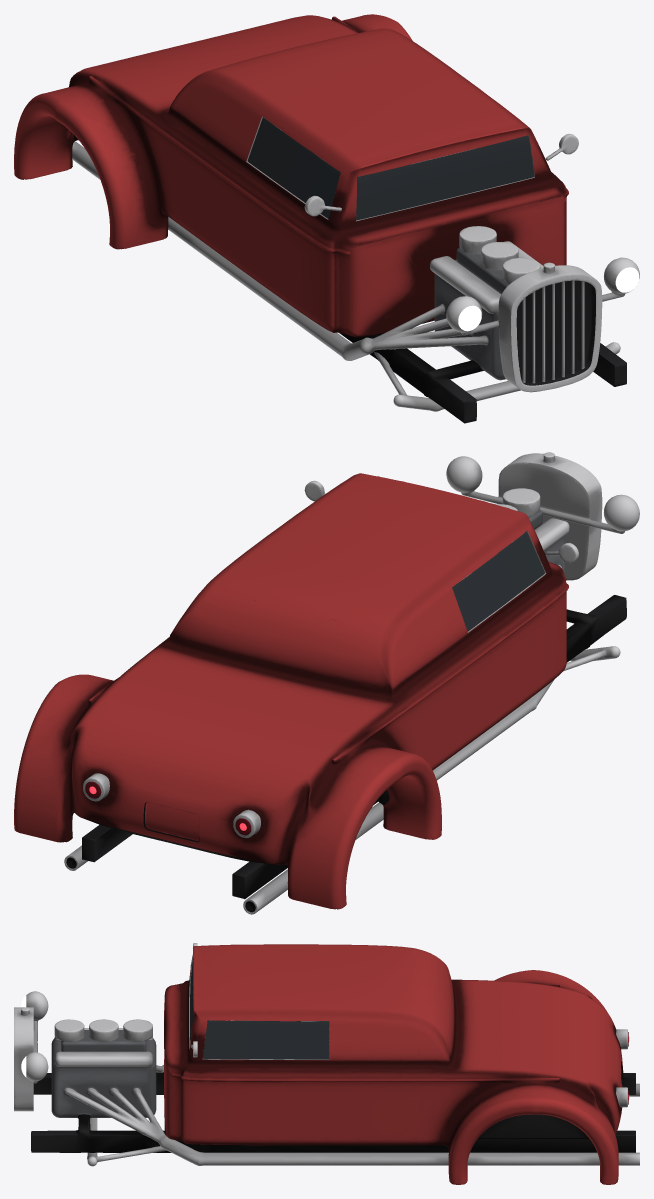
Rendered from deuce.glb.
The picture shows the model from 3 angles, top to bottom: view 1: azimuth 30°, elevation 25°; view 2: azimuth 150°, elevation 25°; view 3: azimuth 270°, elevation 25°; orthographic projection. The views are drawn at different scales.
Parts seen in each view (by area): view 1: paint, chrome, window, grille, trim, head, lens; view 2: paint, chrome, trim, window; view 3: paint, chrome, trim, head, window.
Boxes of the visible parts, box(x1,y1,x2,y2) form: paint: box(14, 14, 568, 337); chrome: box(72, 116, 639, 411); window: box(247, 117, 534, 220); grille: box(516, 280, 595, 385); trim: box(70, 131, 626, 423); head: box(434, 247, 509, 380); lens: box(458, 267, 639, 331); paint: box(14, 473, 568, 909); chrome: box(64, 452, 639, 914); trim: box(82, 595, 626, 899); window: box(452, 531, 544, 631); paint: box(164, 944, 623, 1184); chrome: box(14, 943, 639, 1166); trim: box(31, 1061, 635, 1152); head: box(51, 1030, 156, 1117); window: box(190, 958, 329, 1059).
Size of what is drawn, in the model's own units: 1.93 by 1.08 by 3.83.
